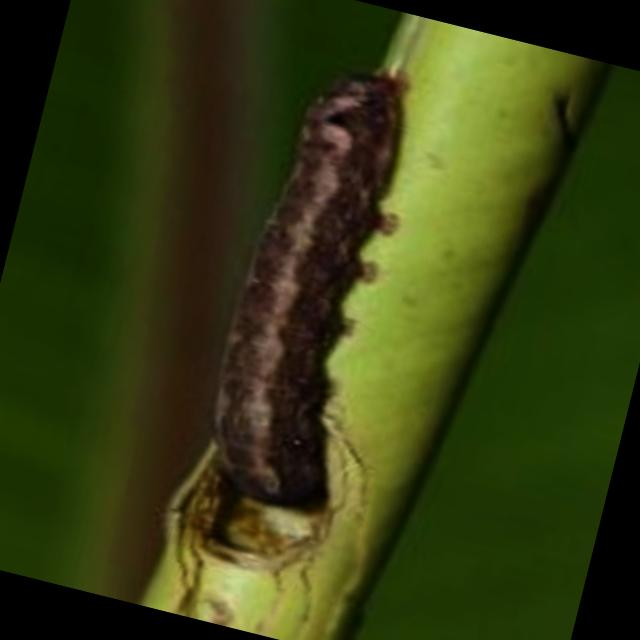Tobacco cutworm: (95, 0, 543, 633)
